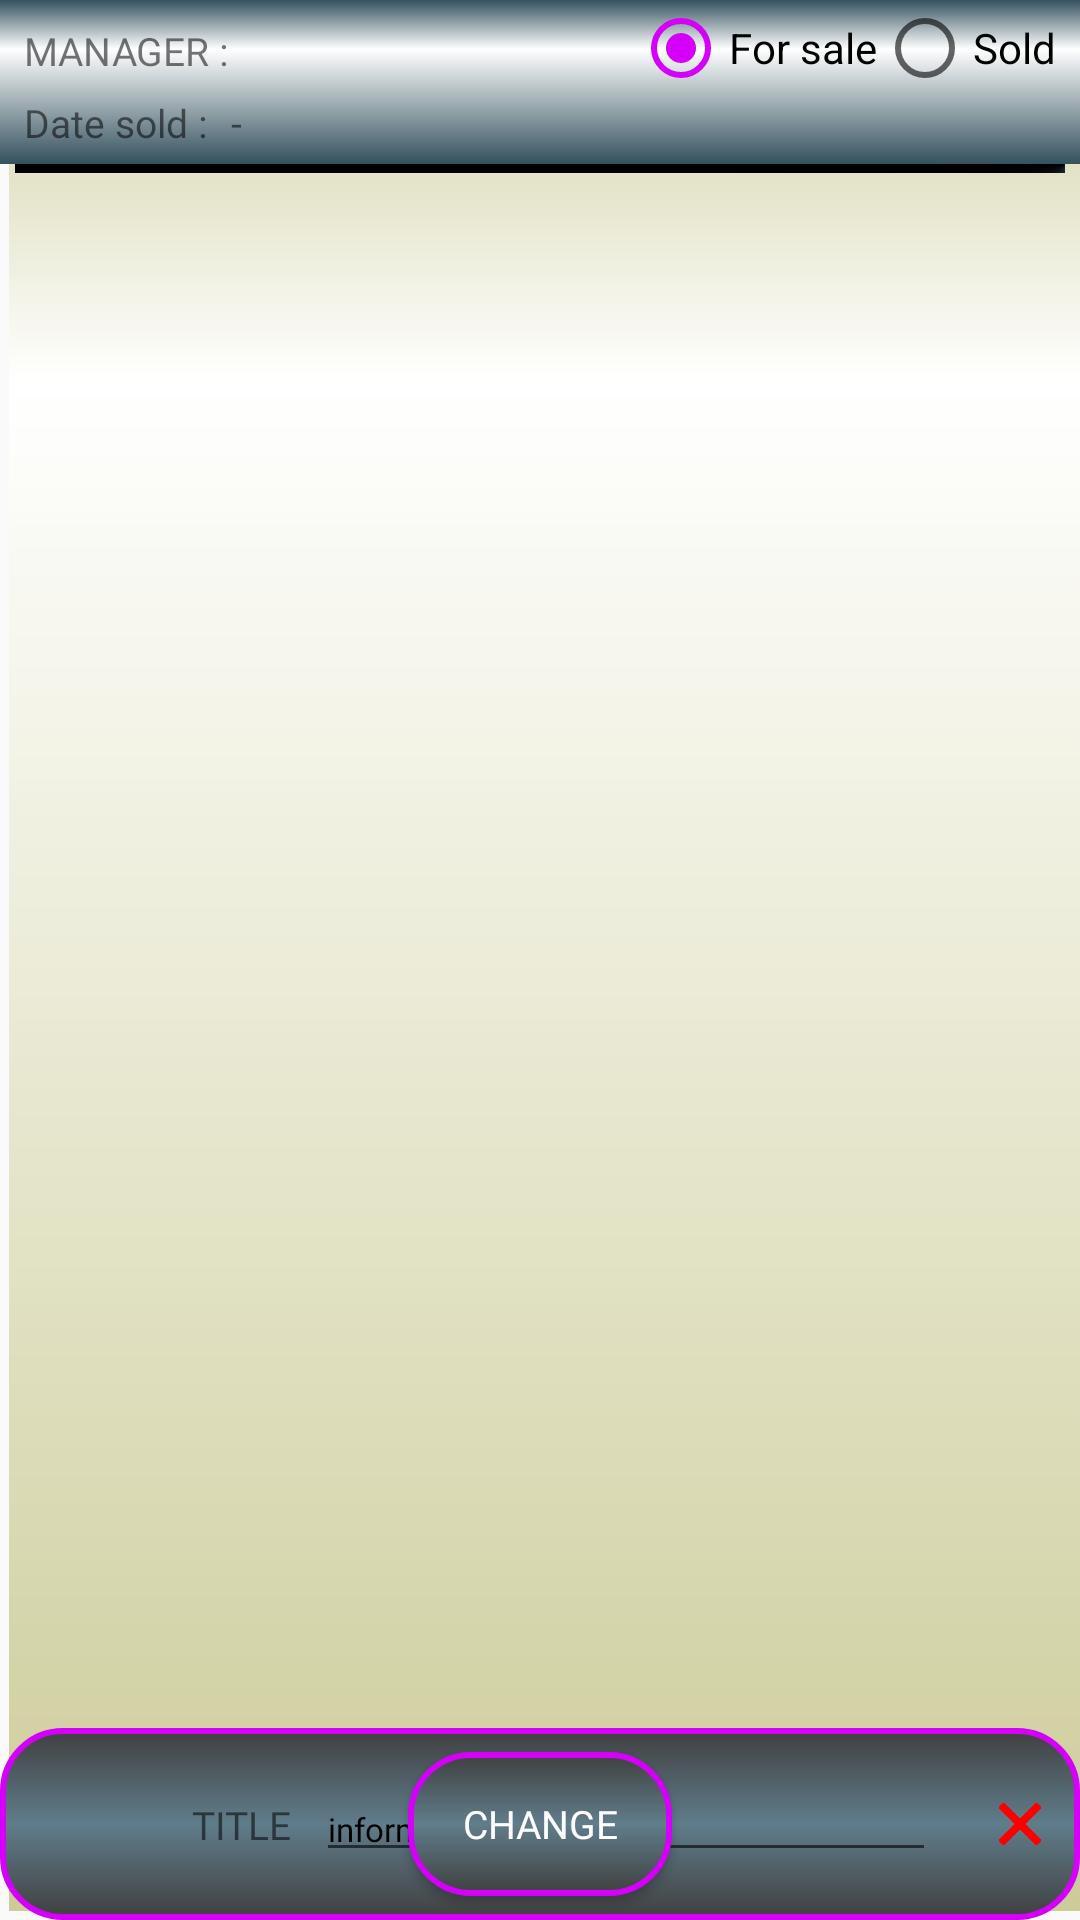

Icons on this 1080px x 1920px Android screen, each with the point to tap as [x,y]:
clear: [1020,1824]
